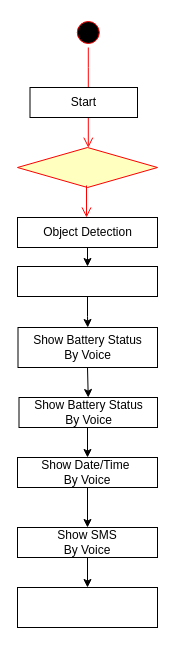
The diagram is 175 pixels wide and 645 high, and some of its shapes have lost their labels. Each missing label, with the centre of its shape:
"Disease Prediction" belongs at (x=87, y=281).
"Make A Call By Voice" belongs at (x=87, y=607).
"Speak Option" belongs at (x=87, y=167).
